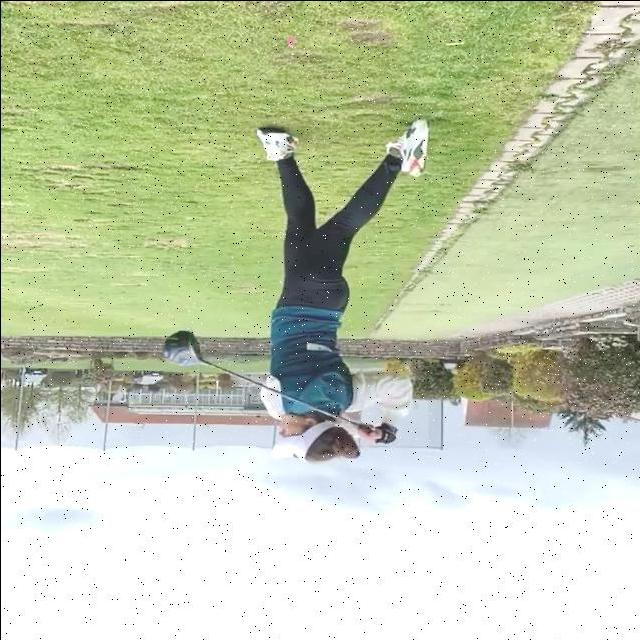golf club-handle: (158, 326, 373, 437)
golf club-head: (161, 330, 200, 368)
